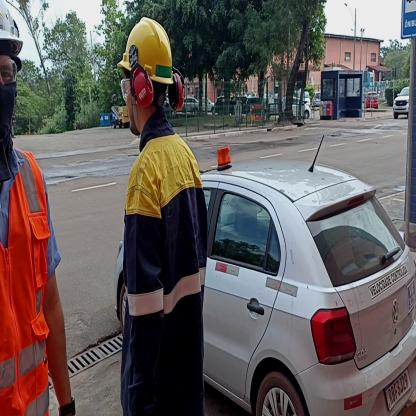C_eletrica: (120, 137, 207, 416)
Capacete: (121, 15, 177, 83), (0, 0, 25, 42)
colete: (0, 158, 50, 416)
